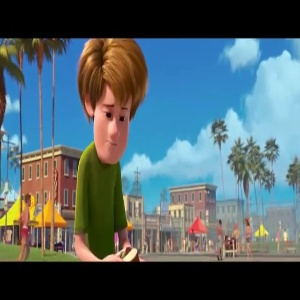Shagy: (79, 37, 158, 164)
